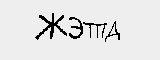Д: (106, 20, 123, 40)
Ж: (35, 12, 66, 41)
П: (94, 21, 108, 42)
Т: (82, 20, 96, 39)
Э: (69, 13, 85, 43)
